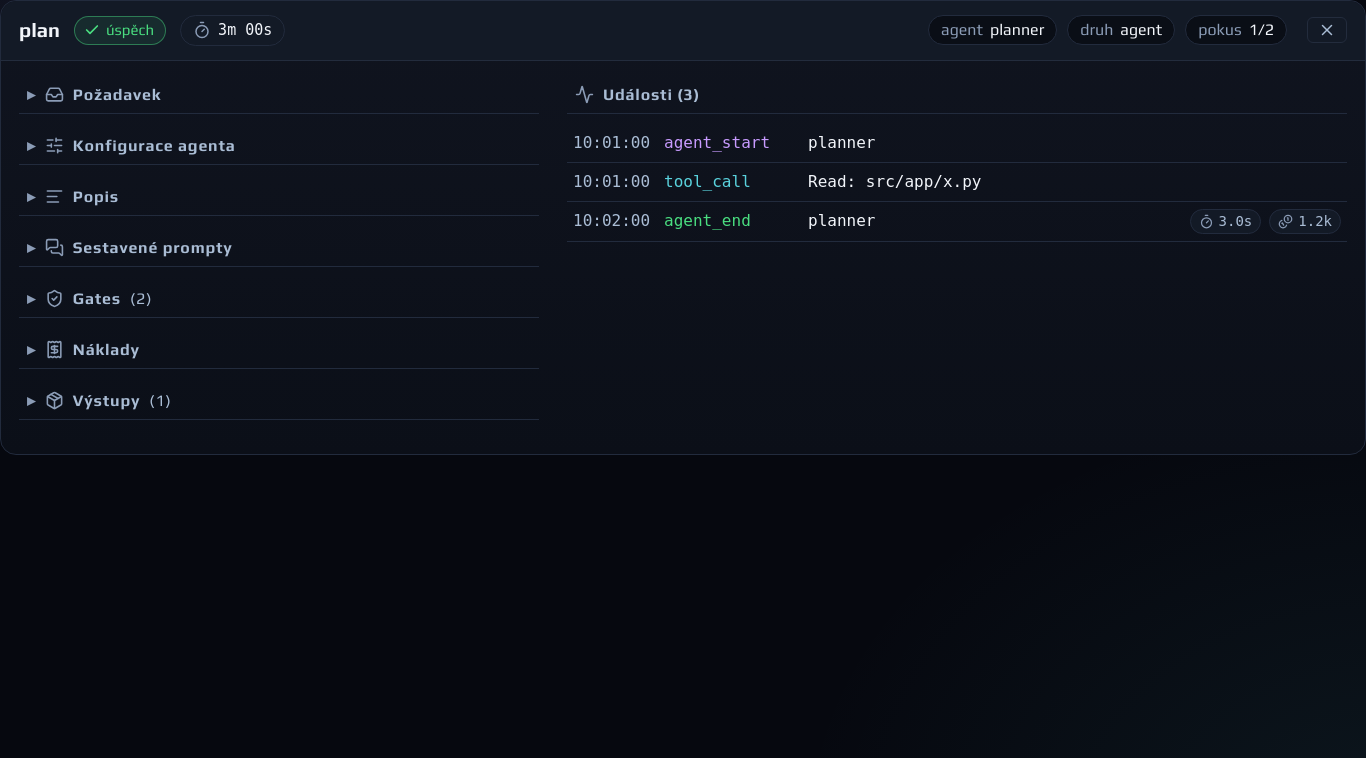
Test: PhaseDetail › shows gates collapsed with their checks behind a toggle
Click the button "▸ Gates (2)".
click(97, 298)  # box [19,280,539,318]
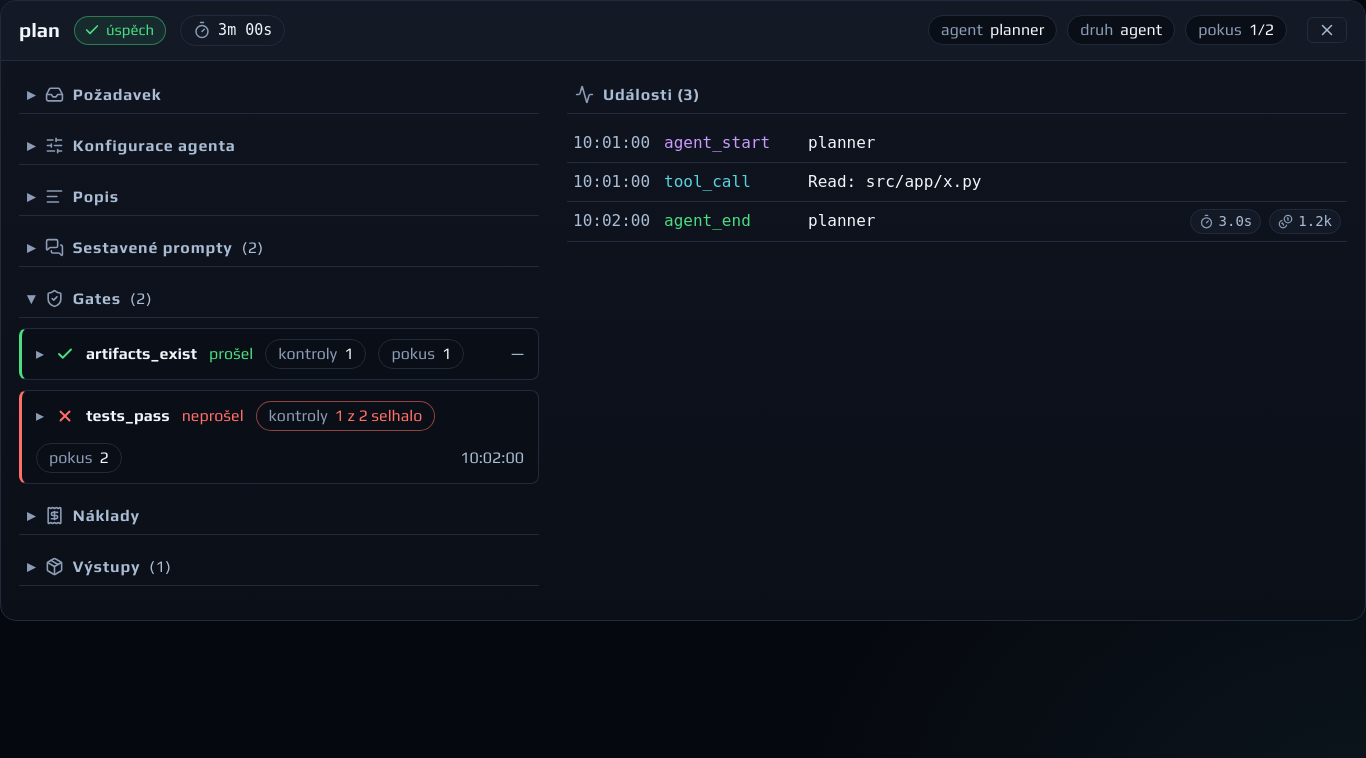
Click the button that starts with "tests_pass".
click(128, 415)  # box [36,400,524,472]
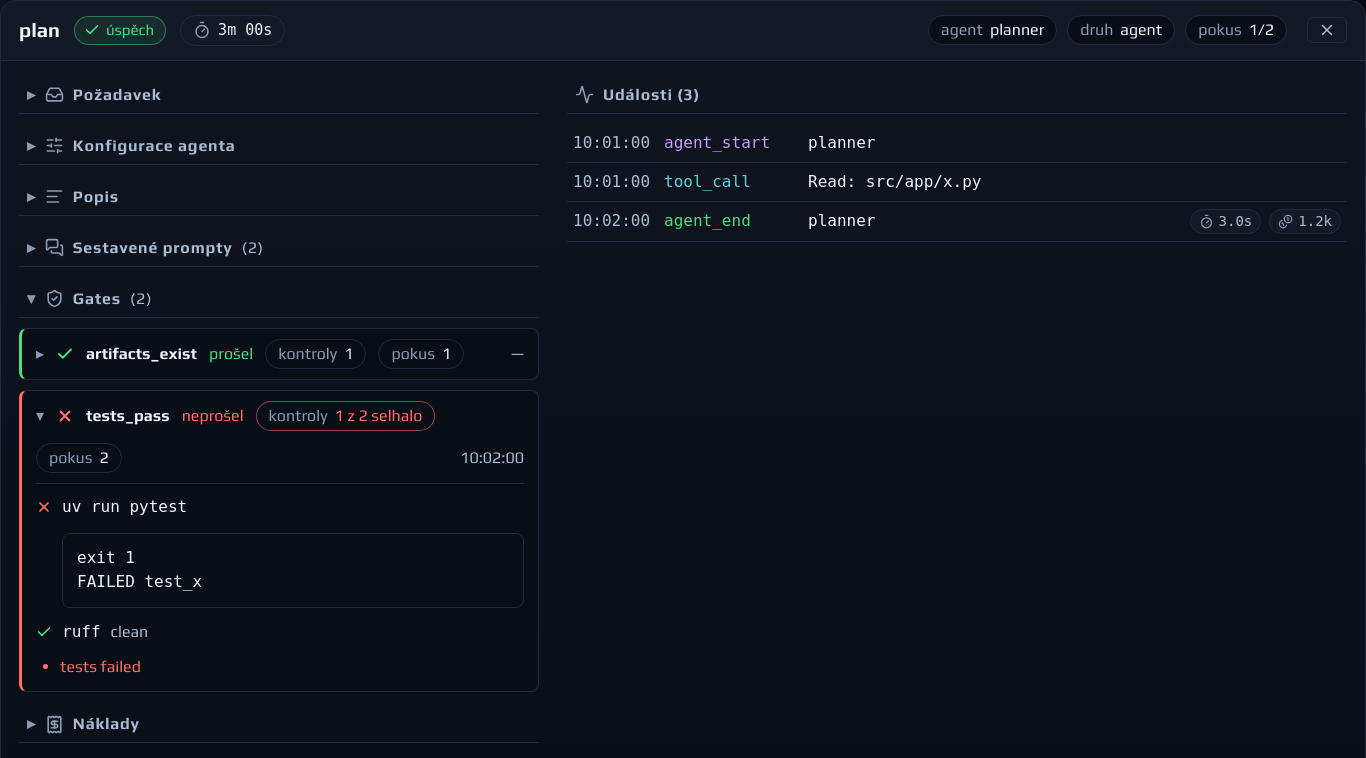
Expected: the text with class "check-note" reads "clean", [110,622,148,641]
Expected: the list with test id "violations" reads "tests failed", [60,657,141,676]
